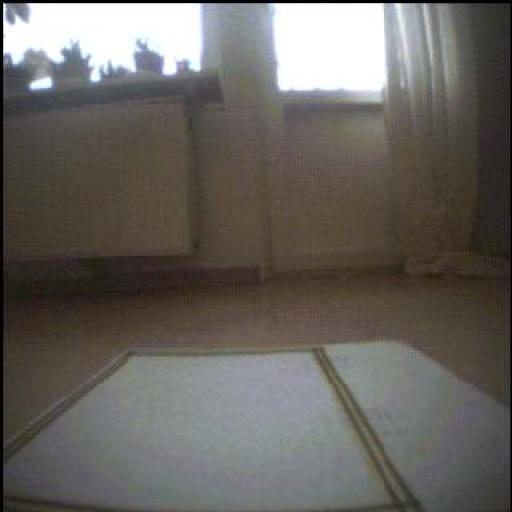Pad: (4, 345, 425, 512)
